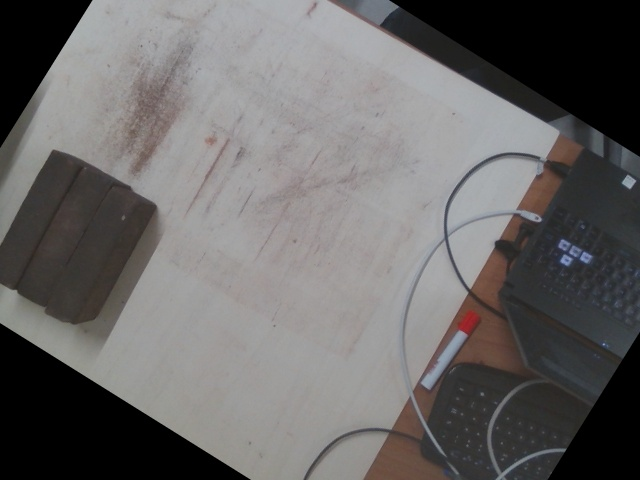brick-side: (40, 188, 137, 326), (13, 167, 110, 305), (0, 152, 78, 290)
